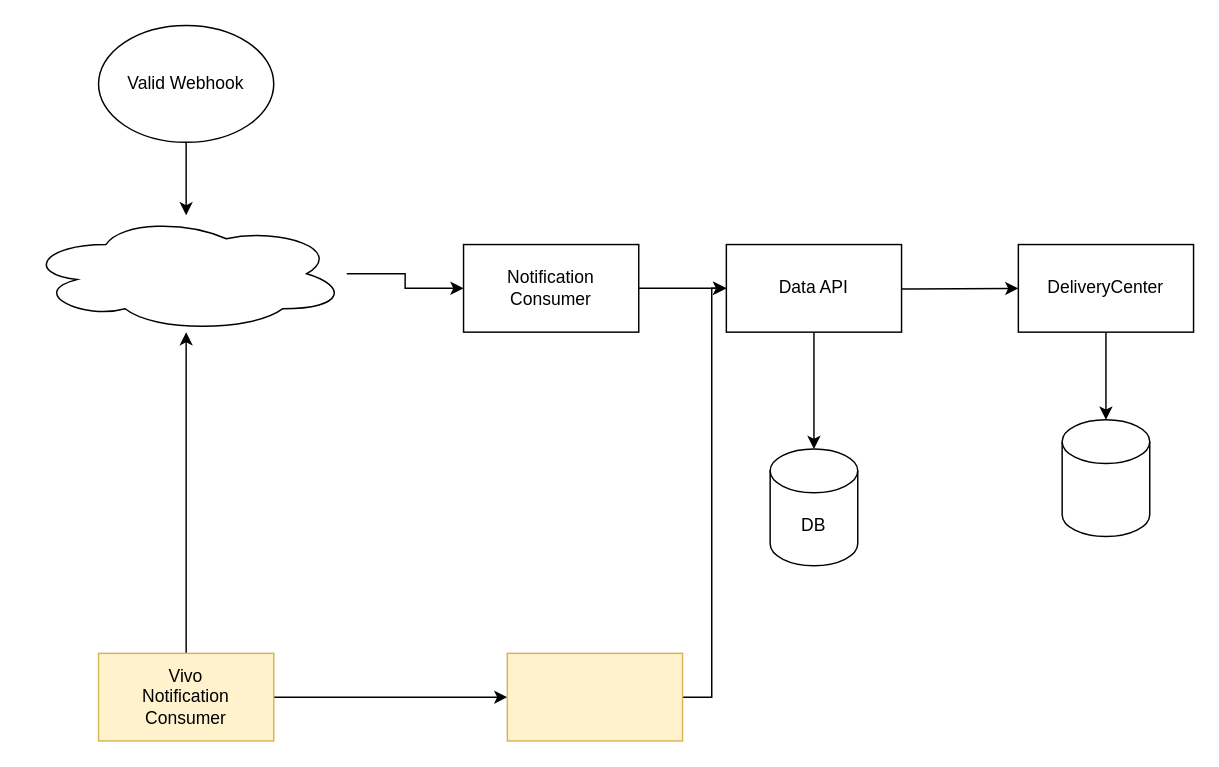
Image size: 1219x767. Some labels were removed from this diagram. The shapes that lost their labels are listed below. From the top down, each one's centre as x and y in pixels, then its label:
the point at 185,273: Kafka 19-socketlabs-notification-engagement
the point at 1105,477: MongoDB
the point at 594,696: Integration
